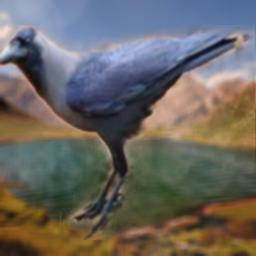Crow: (0, 25, 255, 240)
